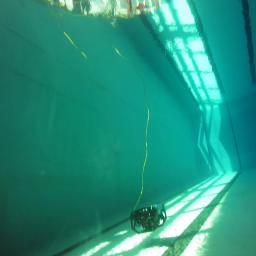Side: (131, 202, 167, 234)
